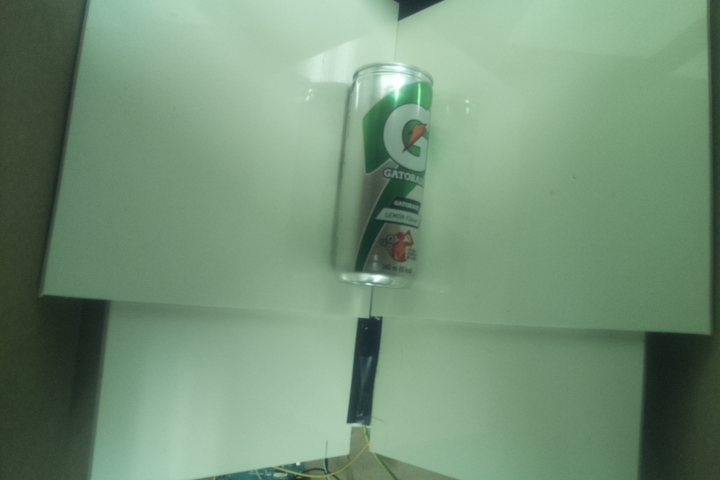can: (330, 56, 436, 289)
